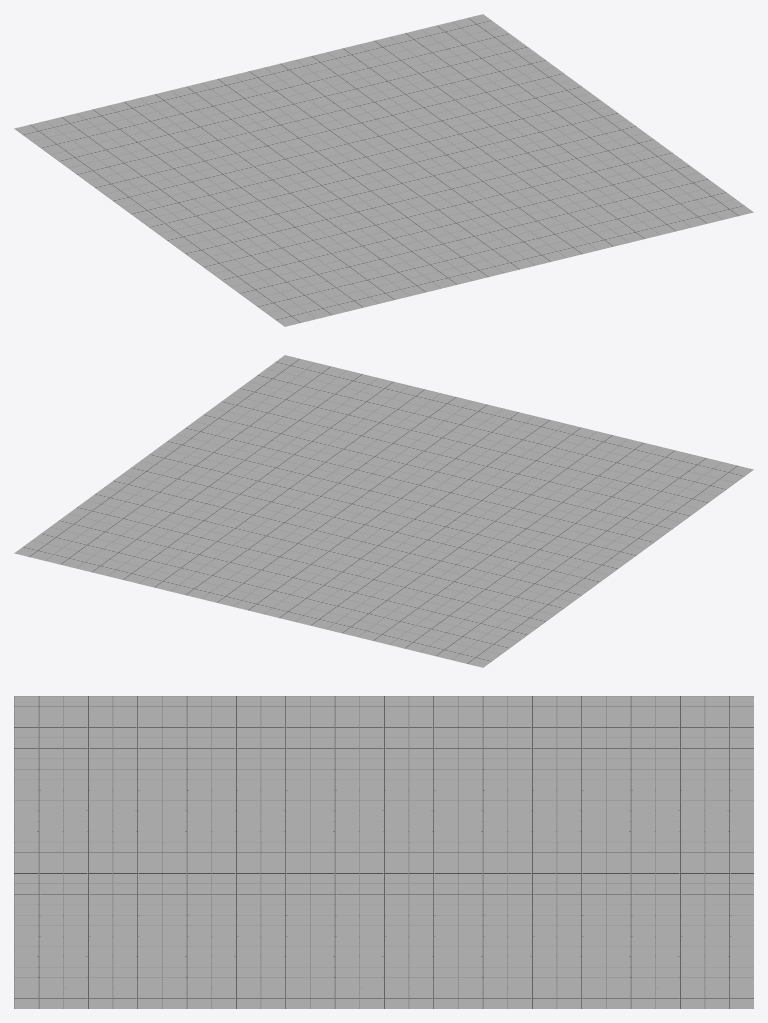
File: first.glb
3 renders of one model, top to bottom at view 1: azimuth 30°, elevation 25°; view 2: azimuth 150°, elevation 25°; view 3: azimuth 270°, elevation 25°, orthographic. The views are drawn at different scales.
Parts seen in each view (by area): view 1: first; view 2: first; view 3: first.
Boxes of the visible parts, x1,y1,x2,y2 form: first: (14,14,753,326); first: (14,355,753,667); first: (14,696,753,1008).
Size of the model in its own units: 30 by 0 by 30.
Materials: 1 (1 with a texture image).
